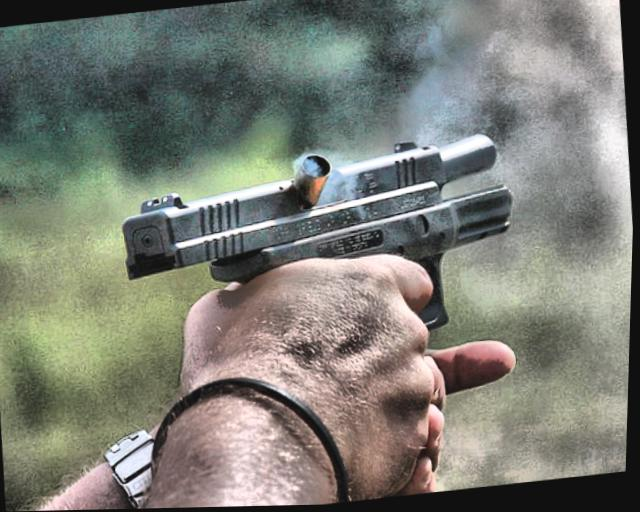pistol: (106, 129, 528, 368)
